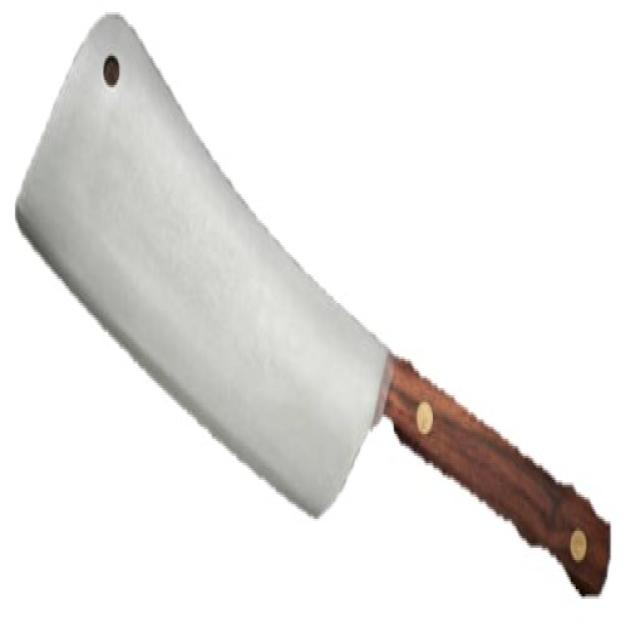knife: (12, 3, 618, 603)
